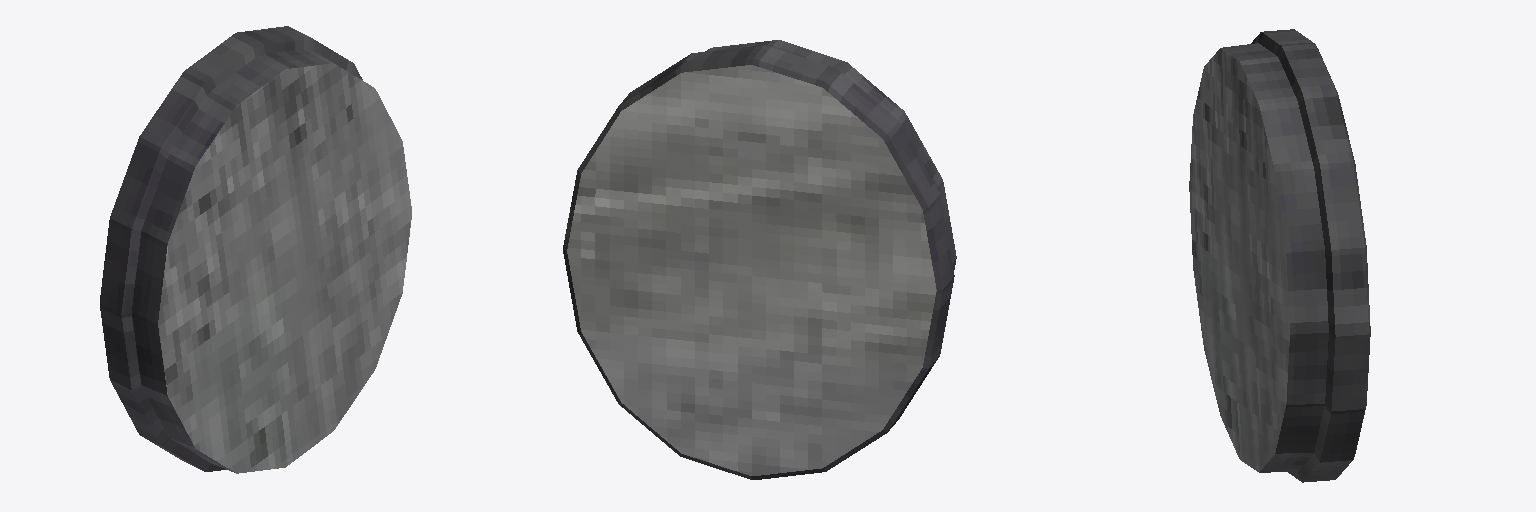
3 views of the same model, side by side, from view 1: azimuth 30°, elevation 25°; view 2: azimuth 150°, elevation 25°; view 3: azimuth 270°, elevation 25° (orthographic).
Visible parts, largest first — view 1: LlantaDer1; view 2: LlantaDer1; view 3: LlantaDer1.
Boxes of the visible parts, x1,y1,x2,y2 form: LlantaDer1: [100, 26, 411, 473]; LlantaDer1: [563, 40, 956, 479]; LlantaDer1: [1189, 29, 1370, 482].
Bounding box in the file's own units: 0.219 × 0.2663 × 0.1038.
1 materials, 1 textured.